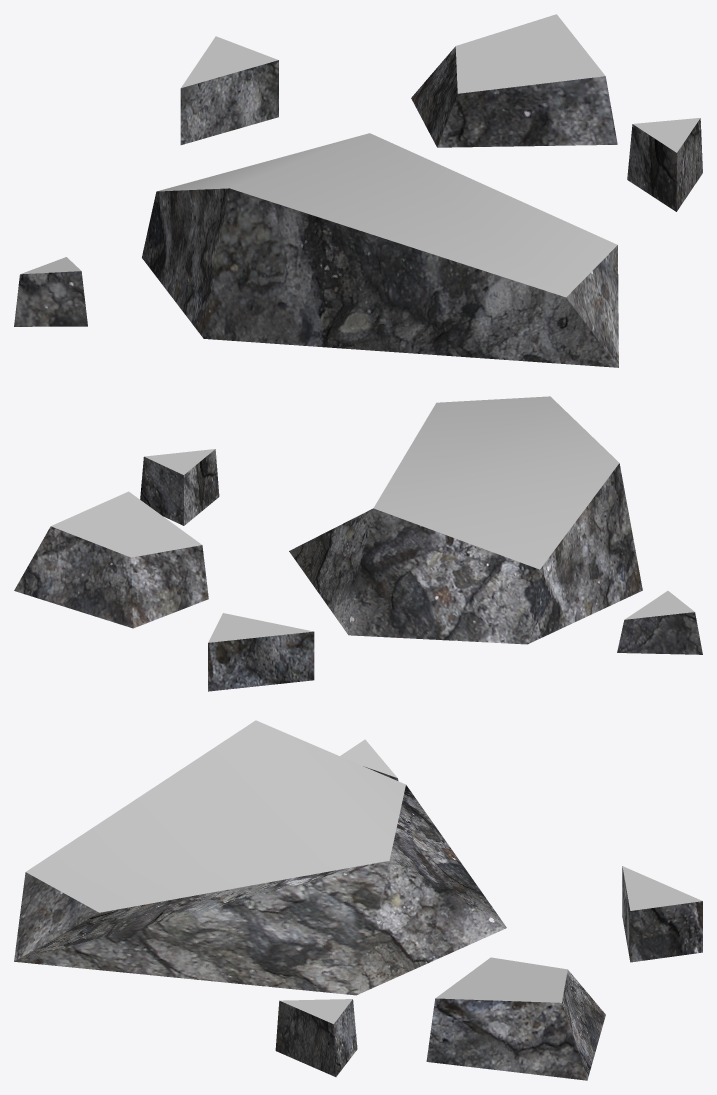
The model's file is Debris_small2_LOD1.fbx.
3 renders of one model, top to bottom at view 1: azimuth 30°, elevation 25°; view 2: azimuth 150°, elevation 25°; view 3: azimuth 270°, elevation 25°, orthographic. The views are drawn at different scales.
Visible parts, largest first — view 1: polySurface72; view 2: polySurface72; view 3: polySurface72.
Part boxes in pixels (x1,y1,x2,y2): polySurface72: [14, 14, 702, 367]; polySurface72: [14, 396, 702, 691]; polySurface72: [14, 720, 702, 1080].
Bounding box in the file's own units: 1.72 × 0.3456 × 1.67.
